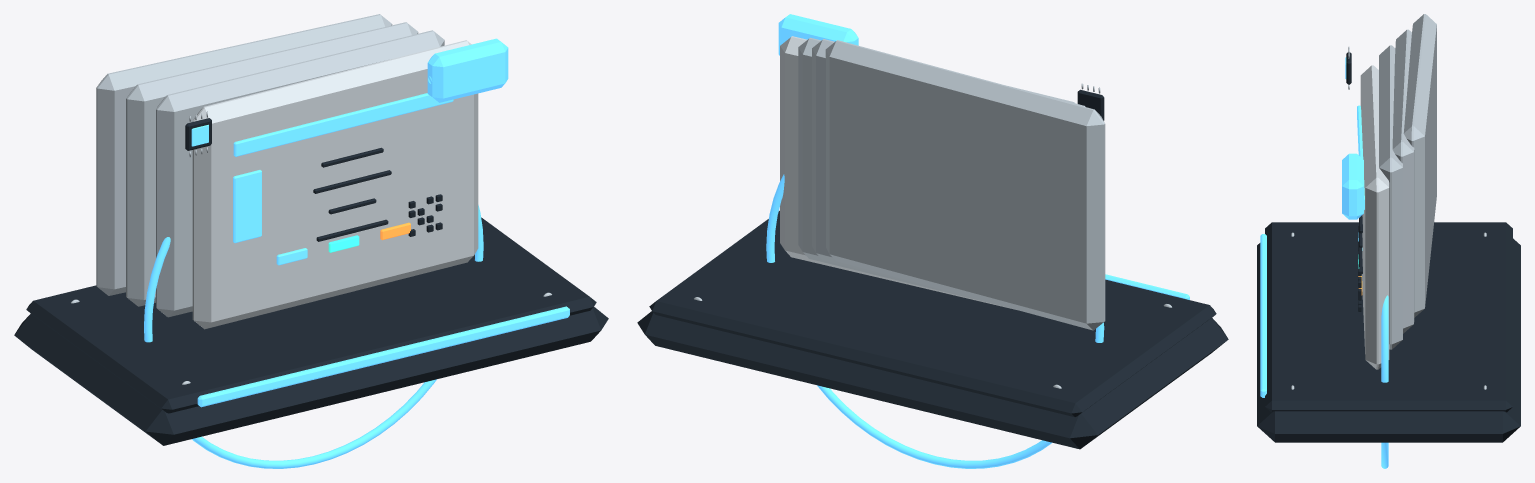
File: Artifact_Offer.glb
The picture shows the model from 3 angles, left to right: view 1: azimuth 30°, elevation 25°; view 2: azimuth 150°, elevation 25°; view 3: azimuth 270°, elevation 25°; orthographic projection. The views are drawn at different scales.
Parts seen in each view (by area): view 1: Artifact_Offer_Body; view 2: Artifact_Offer_Body; view 3: Artifact_Offer_Body.
Boxes of the visible parts, x1,y1,x2,y2 form: Artifact_Offer_Body: (14,14,608,468); Artifact_Offer_Body: (637,14,1228,468); Artifact_Offer_Body: (1257,14,1520,468).
Size of the model in its own units: 2.32 by 2 by 1.32.
